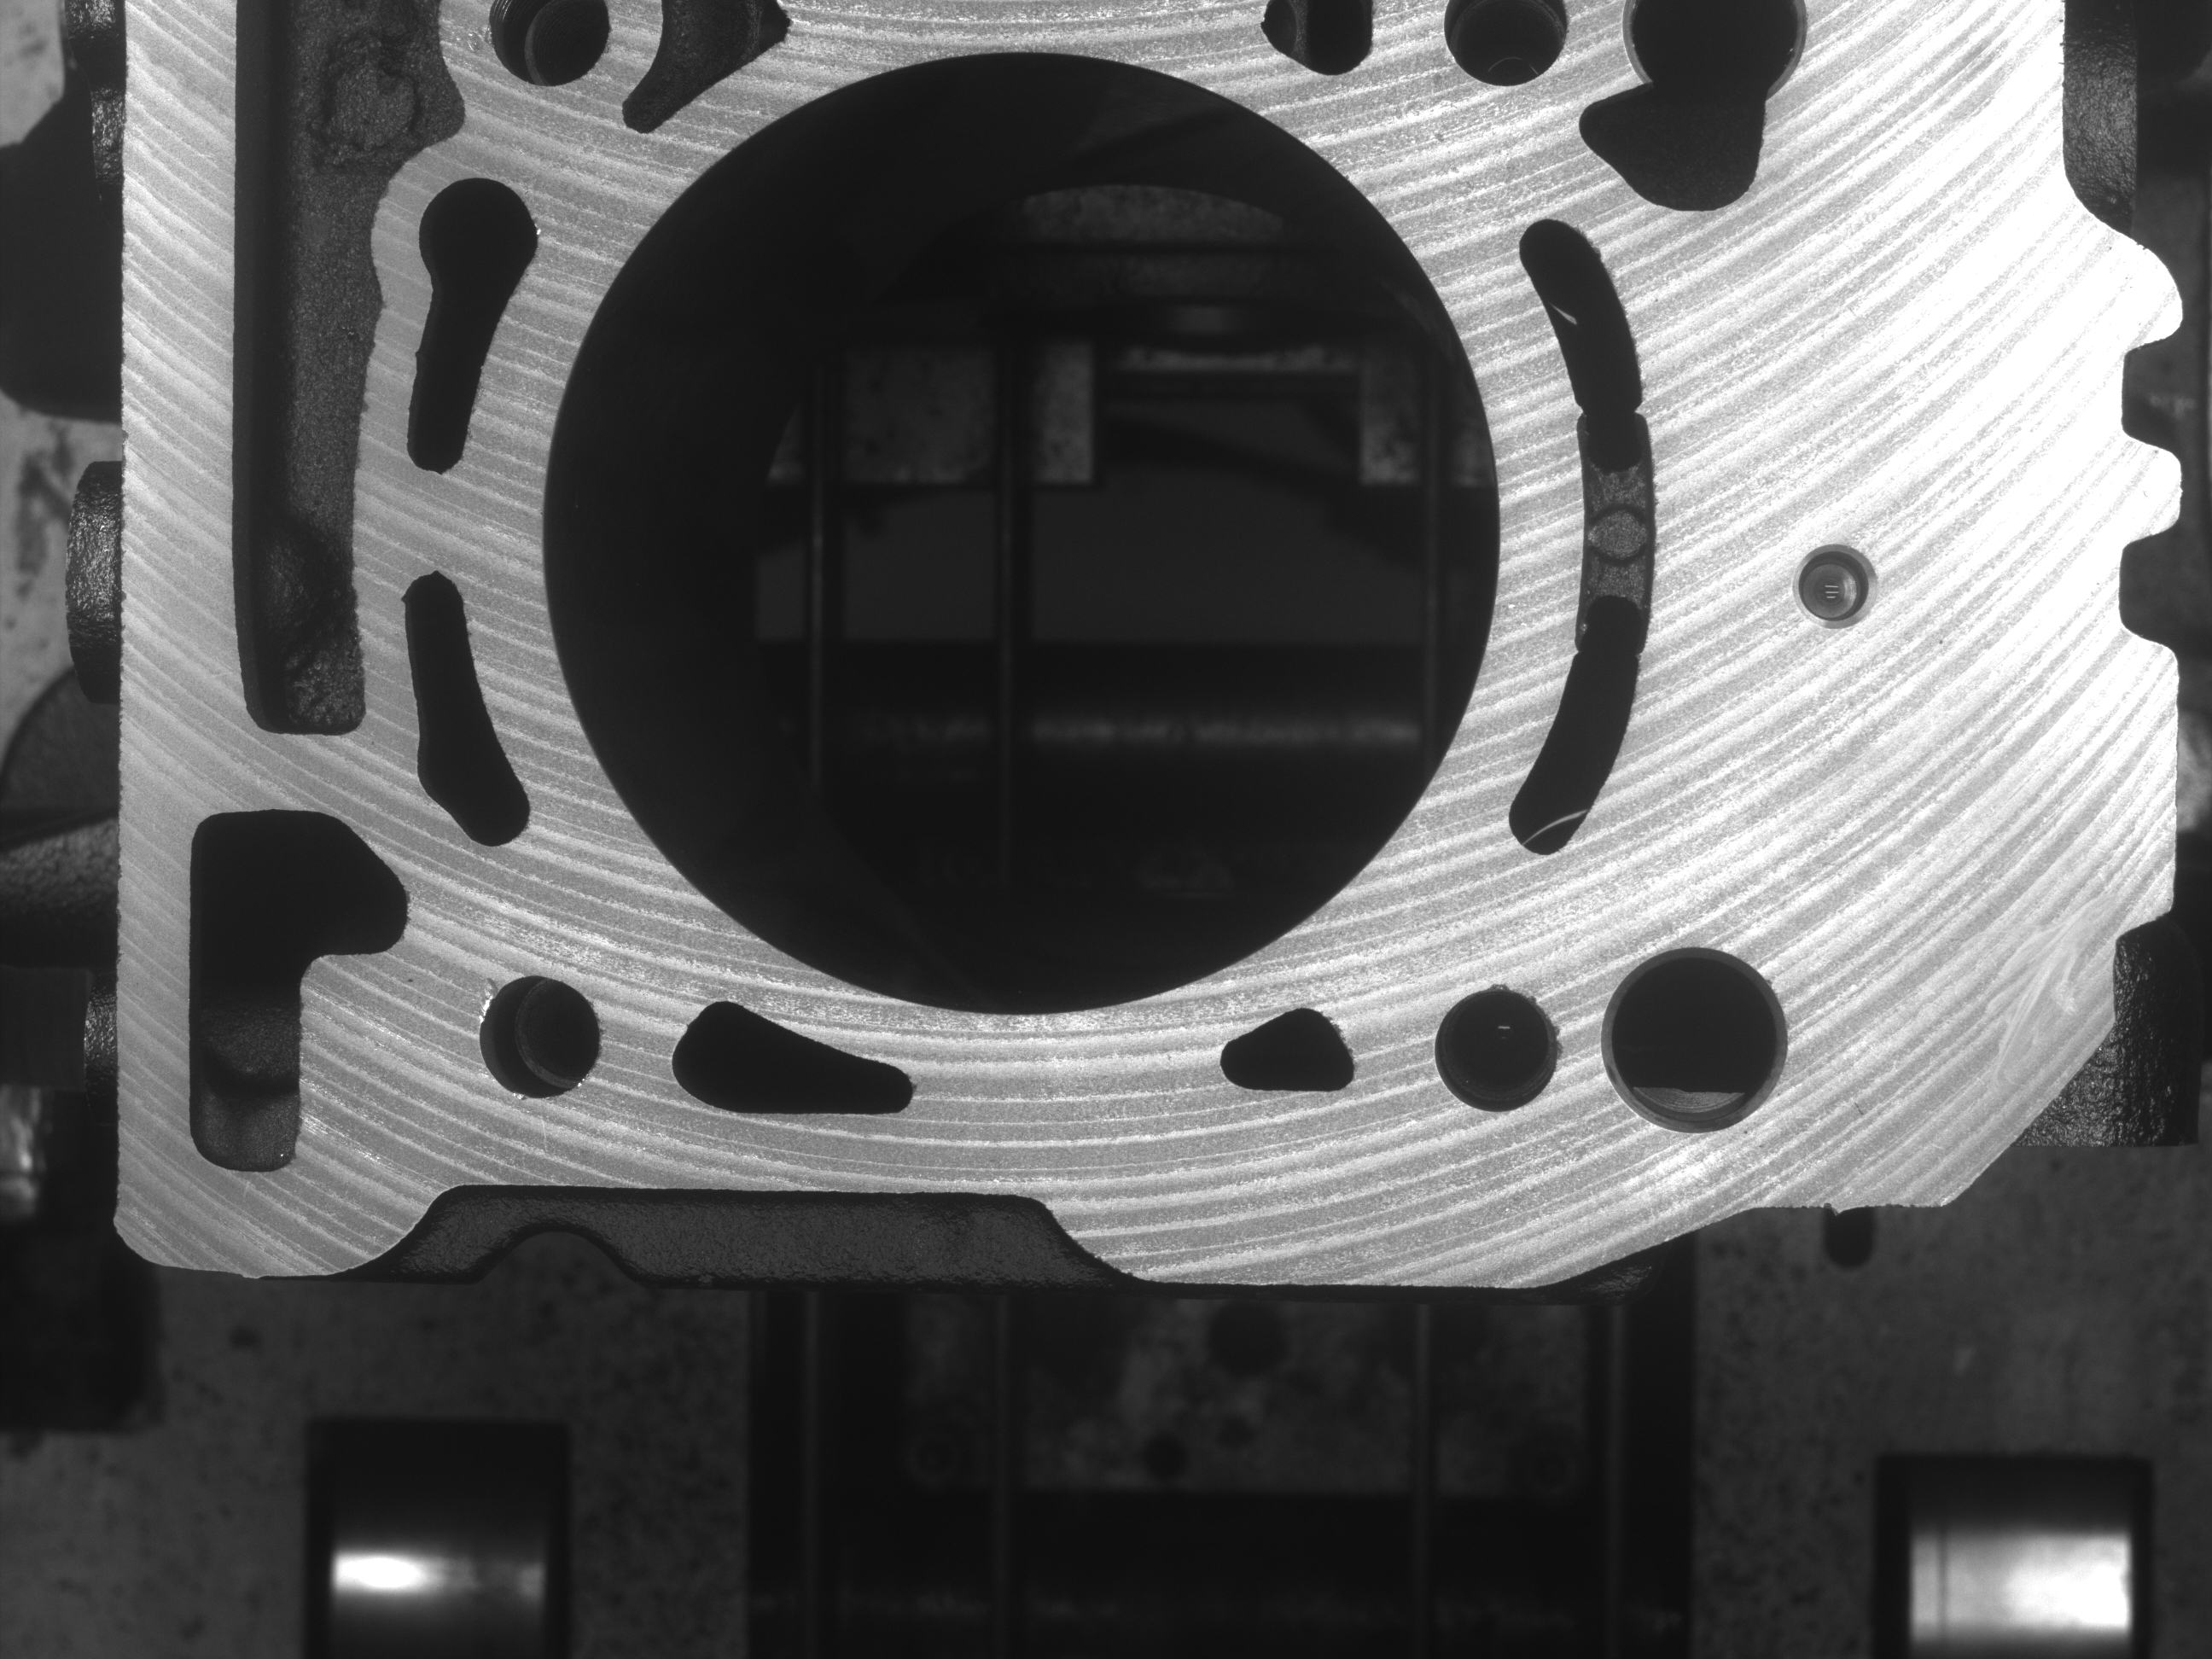dirty: (1965, 812, 2113, 1065)
shrinkage: (456, 19, 493, 52)
